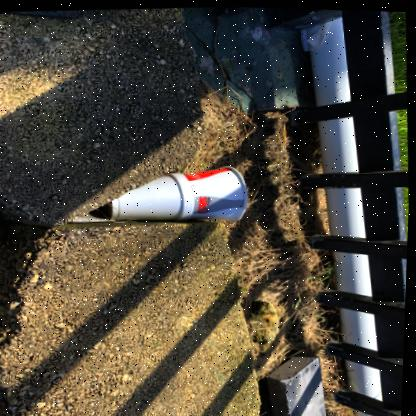Paper: (185, 163, 249, 219)
Plastic: (72, 212, 117, 221)
Waste: (109, 170, 196, 218), (300, 17, 333, 48)
